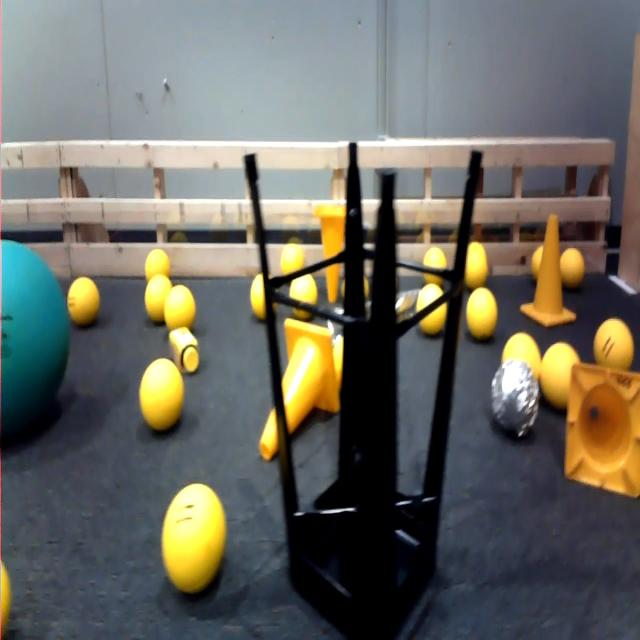fuel: (157, 479, 233, 592), (137, 353, 187, 437), (463, 278, 507, 346), (592, 308, 637, 374), (536, 336, 578, 405), (66, 269, 108, 326), (500, 328, 546, 380), (415, 282, 450, 344), (461, 237, 495, 290), (0, 551, 20, 640), (290, 273, 322, 328), (248, 273, 279, 328), (165, 280, 199, 327), (141, 272, 171, 323), (420, 242, 450, 290), (557, 240, 589, 282), (341, 270, 373, 308), (143, 242, 178, 276), (332, 341, 351, 392), (523, 244, 547, 278)
